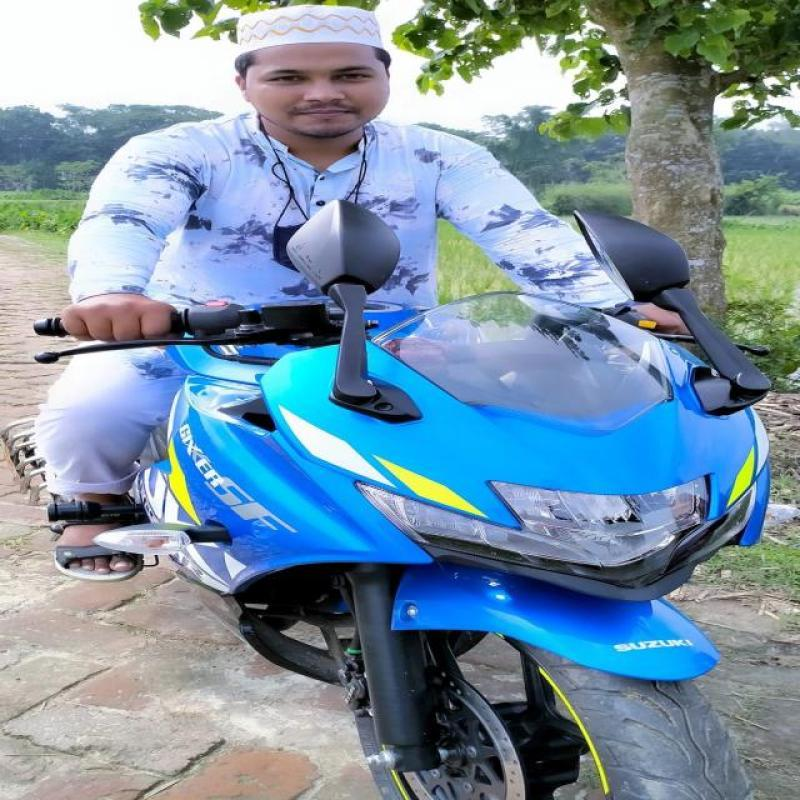nohelmet: (197, 2, 422, 142)
